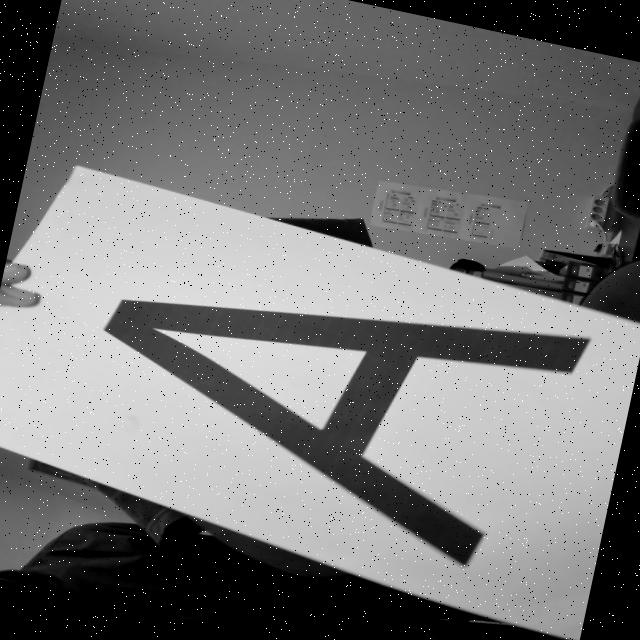a: (38, 215, 614, 596)
